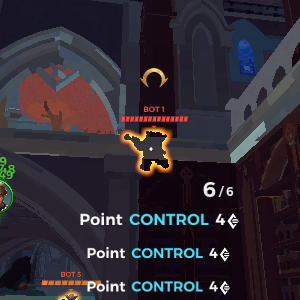model: (129, 127, 169, 178)
